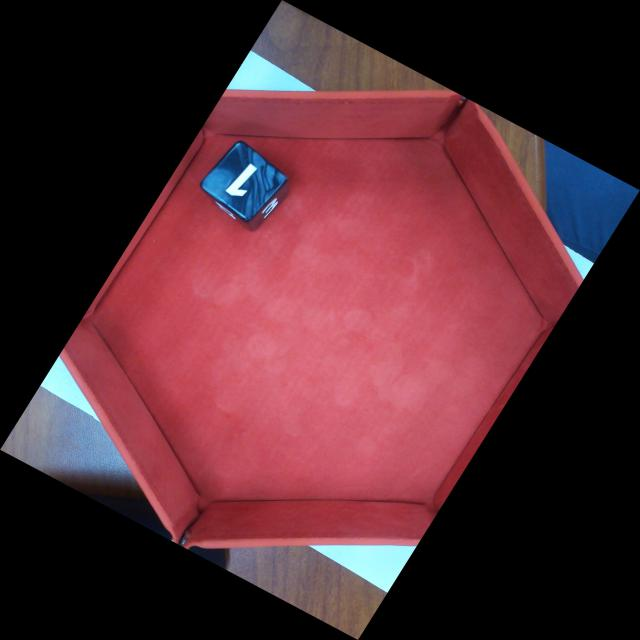dice: (204, 146, 288, 222)
